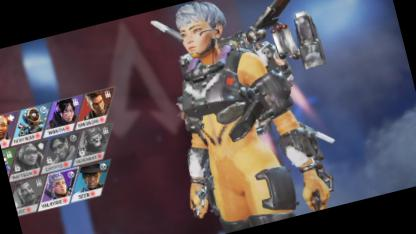Target: (148, 0, 311, 226)
